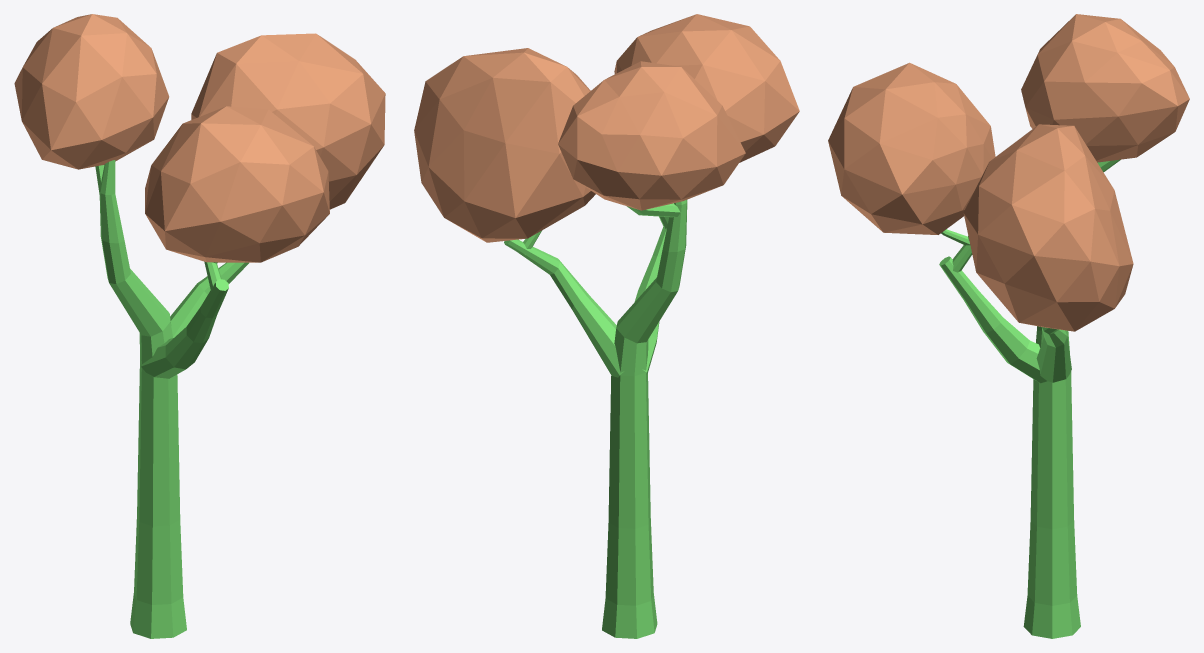
The model's file is Remake7.fbx.
3 views of the same model, side by side, from view 1: azimuth 30°, elevation 25°; view 2: azimuth 150°, elevation 25°; view 3: azimuth 270°, elevation 25° (orthographic). The views are drawn at different scales.
Parts seen in each view (by area): view 1: Icosphere.014; view 2: Icosphere.014; view 3: Icosphere.014.
Part boxes in pixels (x1,y1,x2,y2): Icosphere.014: (14, 14, 385, 638); Icosphere.014: (414, 14, 799, 638); Icosphere.014: (828, 14, 1189, 638).
Size of the model in its own units: 4621 by 8043 by 4500.
